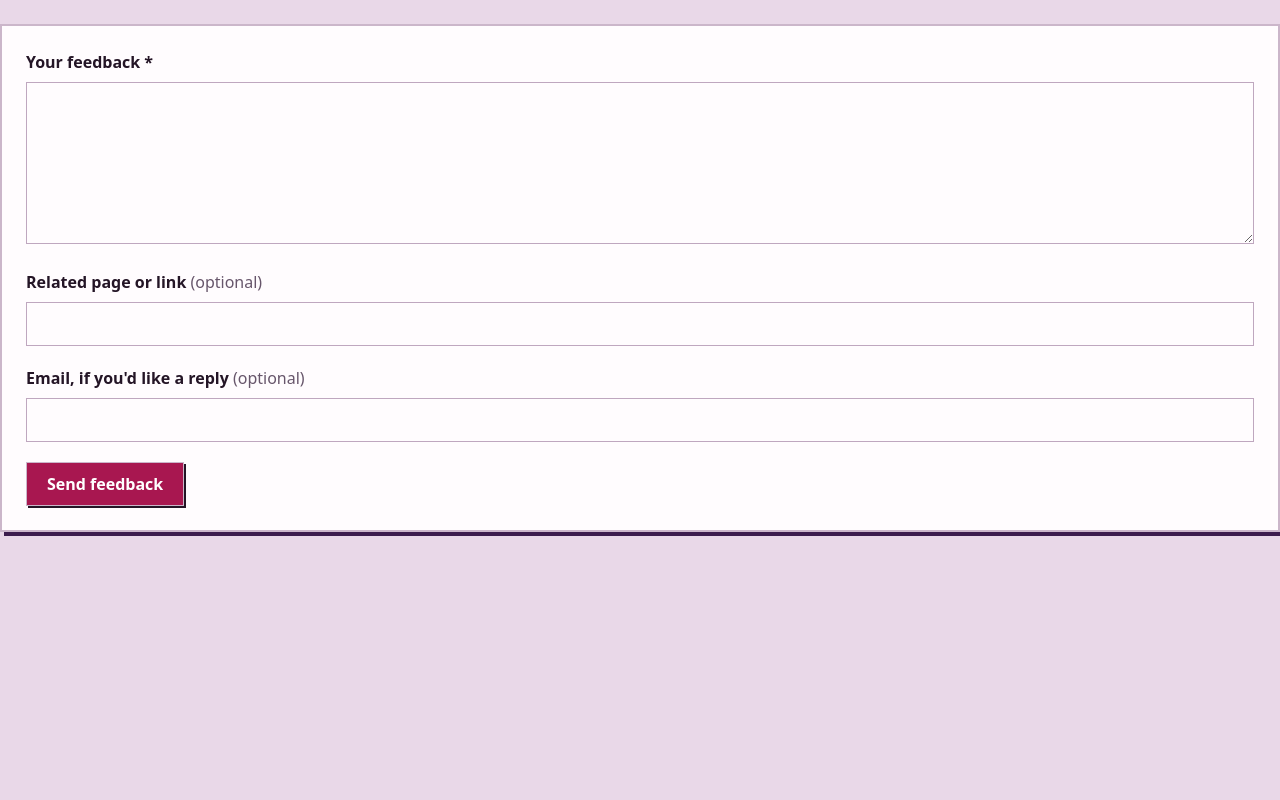
Test: CorrectionForm › validates feedback and optional email
Type "not-an-email" into the field labelled "Email, if you'd like a reply (optional)" at (640, 420), box [26,398,1254,442]
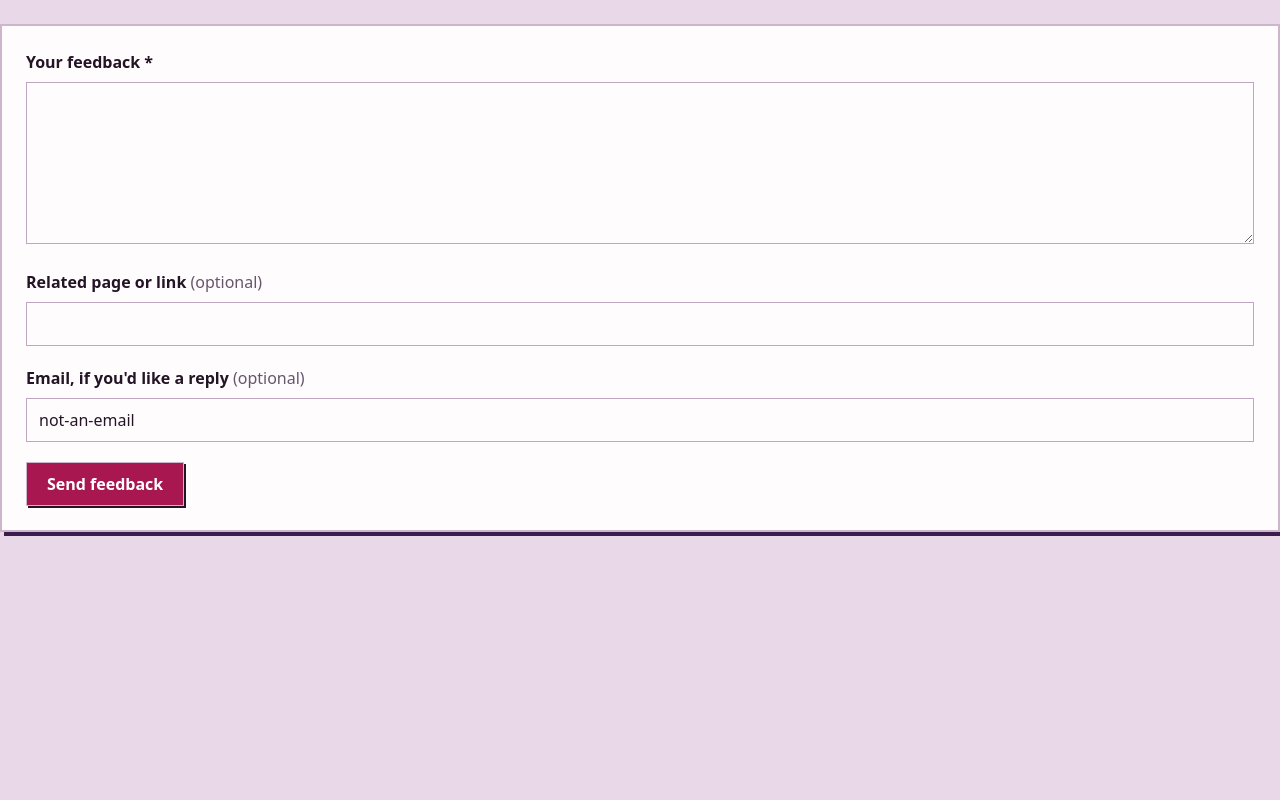
Click the button "Send feedback" at (105, 484), box [26,462,184,506]
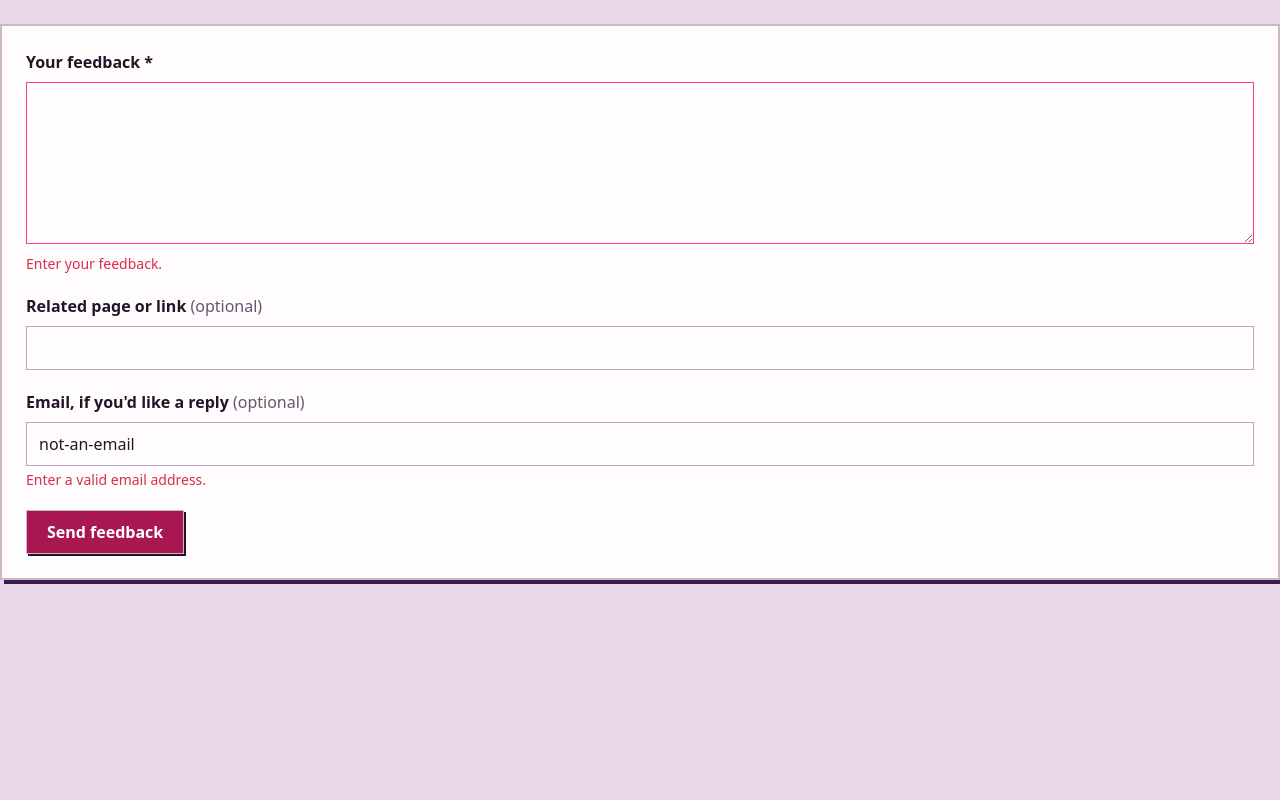
Expected: the text "Enter your feedback." is shown, [26,254,162,273]
Expected: the text "Enter a valid email address." is shown, [26,470,206,489]
